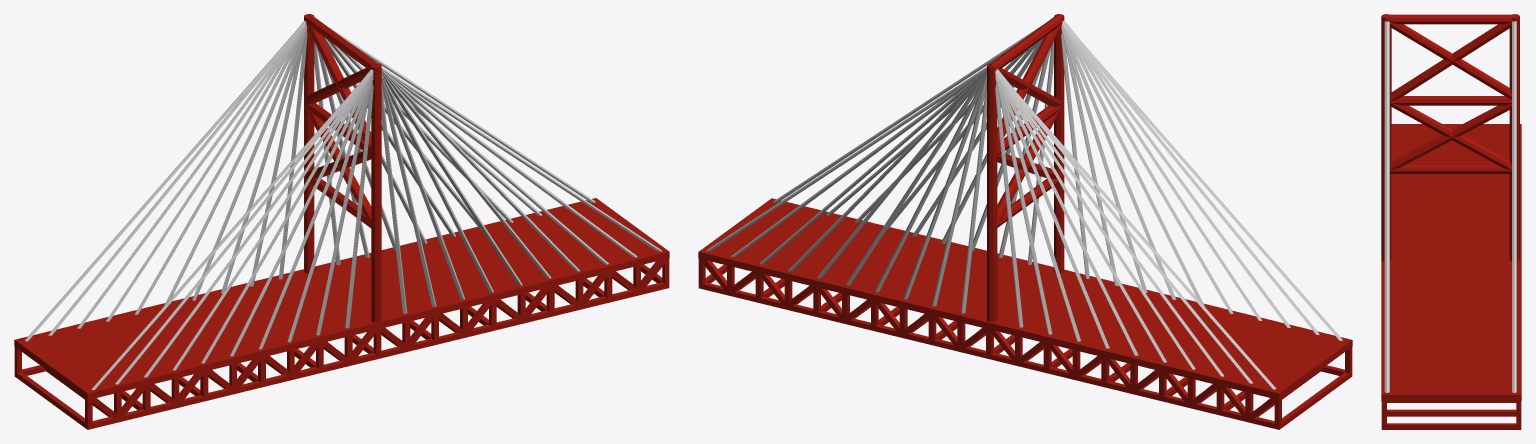
Rendered from suspensionbridge.obj.
The picture shows the model from 3 angles, left to right: view 1: azimuth 30°, elevation 25°; view 2: azimuth 150°, elevation 25°; view 3: azimuth 270°, elevation 25°; orthographic projection. The views are drawn at different scales.
Visible parts, largest first — view 1: Cube_Cube.007; view 2: Cube_Cube.007; view 3: Cube_Cube.007.
Part boxes in pixels (<box>): Cube_Cube.007: <box>14,14,669,429</box>; Cube_Cube.007: <box>698,14,1352,429</box>; Cube_Cube.007: <box>1381,14,1521,429</box>.
Size of the model in its own units: 19.98 by 9.61 by 4.37.
